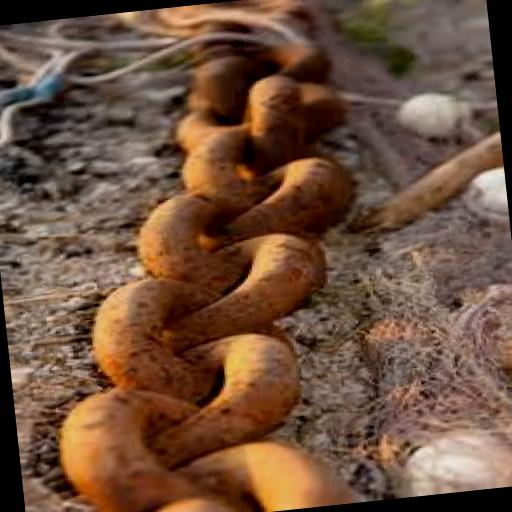segmentation: (98, 264, 333, 511), (370, 171, 512, 493), (172, 51, 349, 234), (184, 183, 324, 342), (71, 391, 241, 512), (141, 196, 221, 274)
